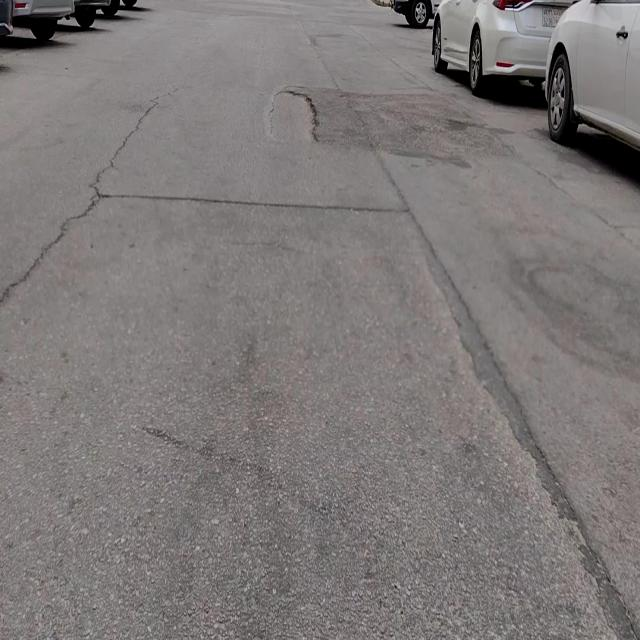Potholes: (269, 89, 319, 143)
